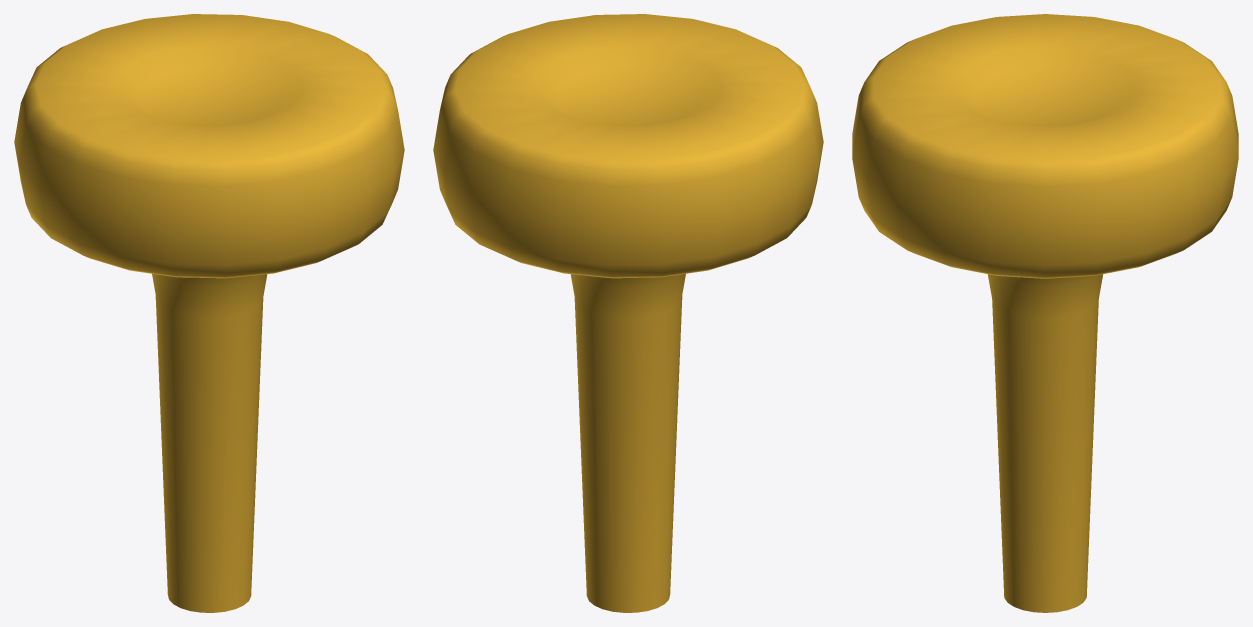
3 renders of one model, left to right at view 1: azimuth 30°, elevation 25°; view 2: azimuth 150°, elevation 25°; view 3: azimuth 270°, elevation 25°, orthographic.
Parts seen in each view (by area): view 1: Circle.007; view 2: Circle.007; view 3: Circle.007.
Boxes of the visible parts, left/top/right/bottom form: Circle.007: left=14, top=14, right=404, bottom=612; Circle.007: left=433, top=14, right=823, bottom=612; Circle.007: left=852, top=14, right=1238, bottom=612.
Bounding box in the file's own units: 0.053 × 0.076 × 0.0524.
